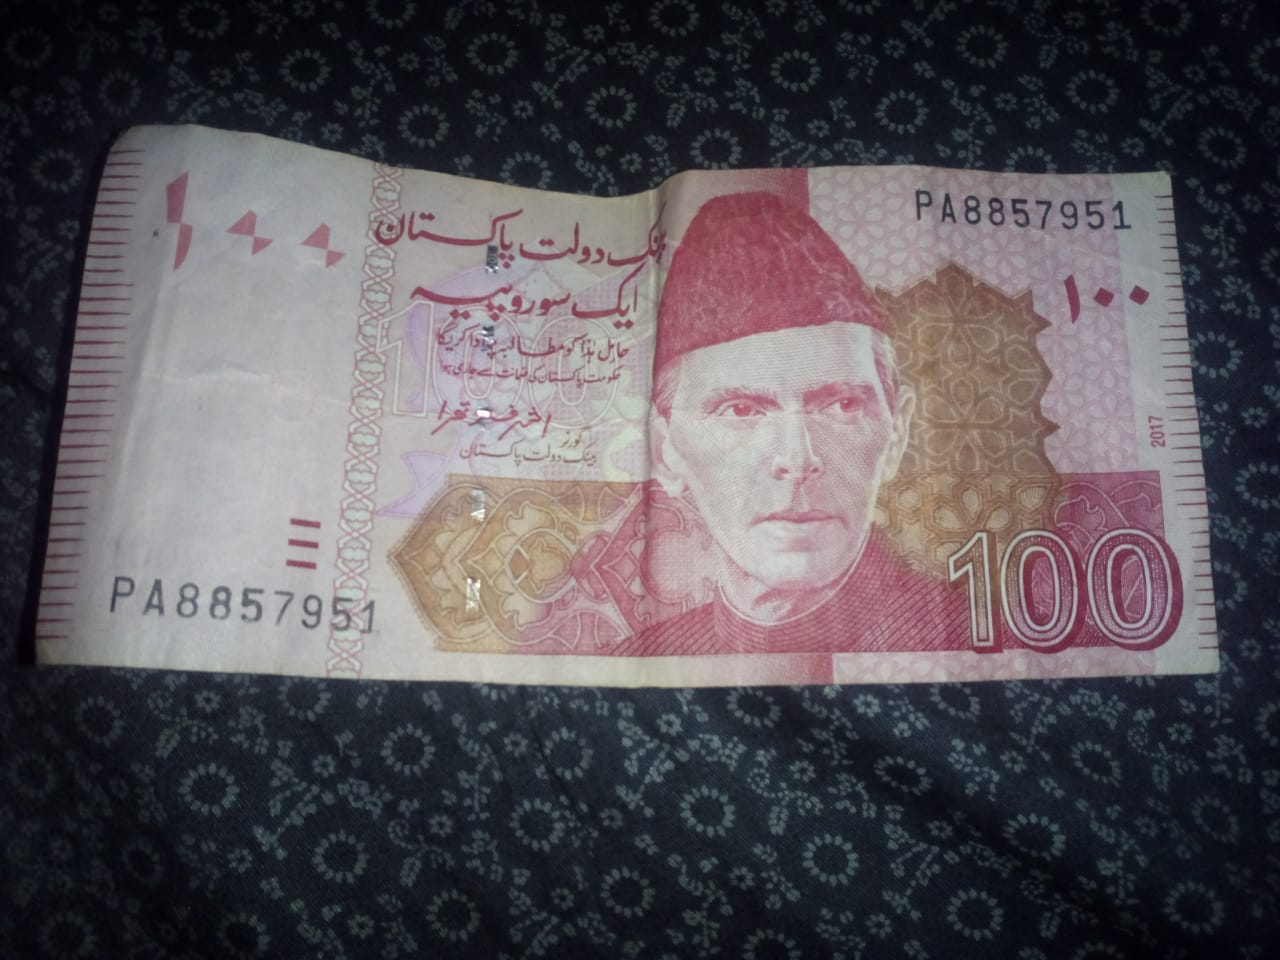100 rupee: (25, 121, 1263, 735)
